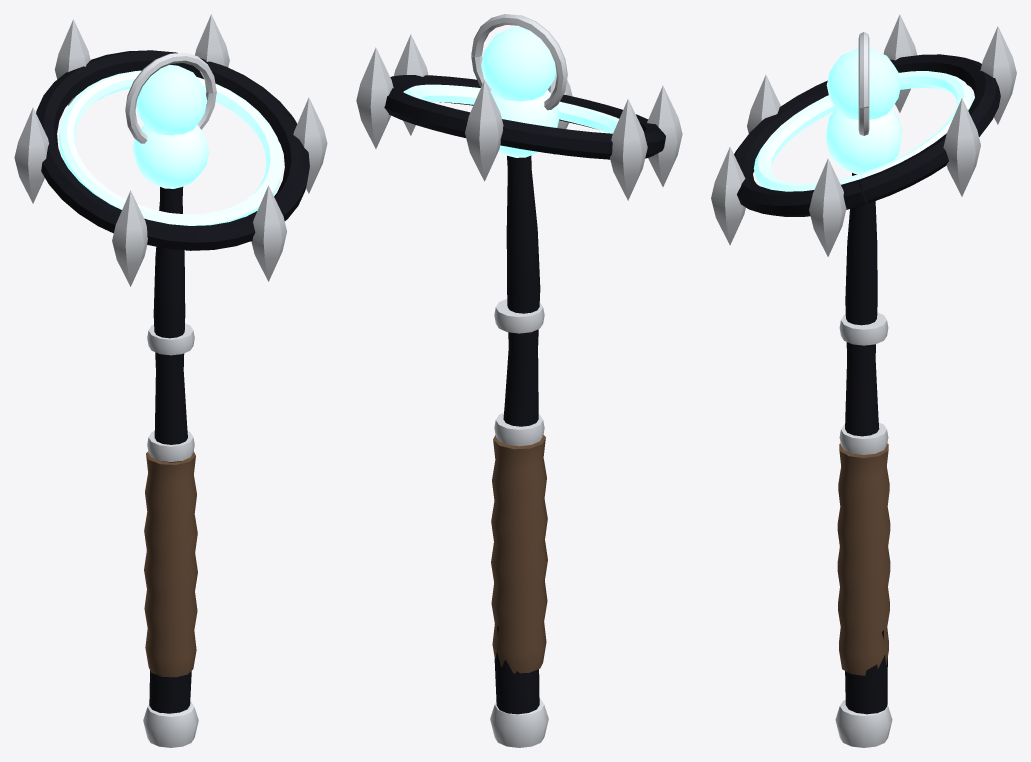
Rendered from esc_w_mage_wand_3.glb.
3 views of the same model, side by side, from view 1: azimuth 30°, elevation 25°; view 2: azimuth 150°, elevation 25°; view 3: azimuth 270°, elevation 25° (orthographic). The views are drawn at different scales.
Parts seen in each view (by area): view 1: esc_w_mage_wand_3; view 2: esc_w_mage_wand_3; view 3: esc_w_mage_wand_3.
Part boxes in pixels (box(x1,y1,x2,y2)): esc_w_mage_wand_3: box(14, 14, 327, 747); esc_w_mage_wand_3: box(356, 14, 682, 747); esc_w_mage_wand_3: box(711, 14, 1016, 747).
Bounding box in the file's own units: 0.1472 × 0.3565 × 0.1394.
